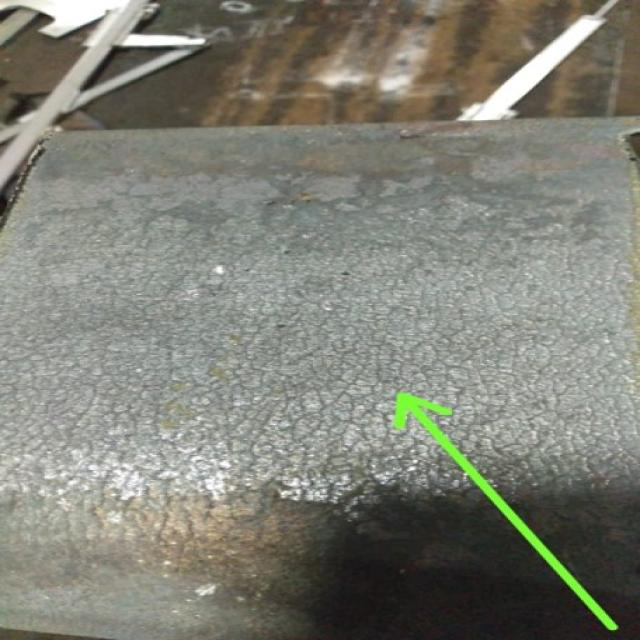defect: (3, 124, 636, 640)
